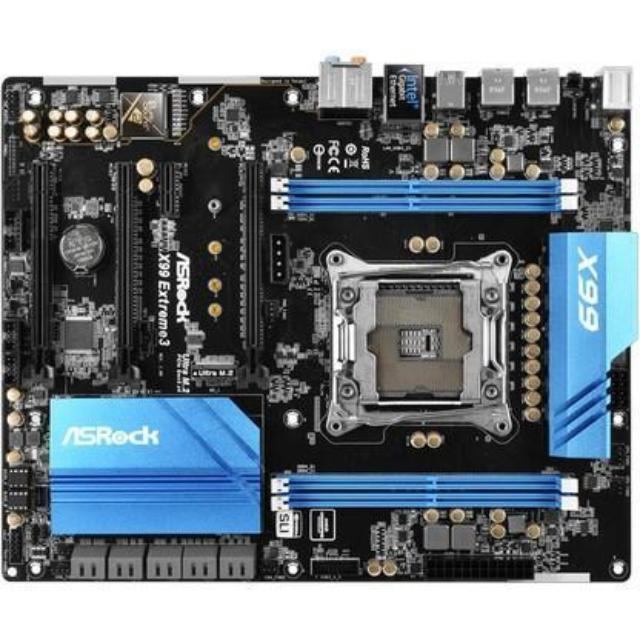Mainboard: (0, 52, 640, 592)
